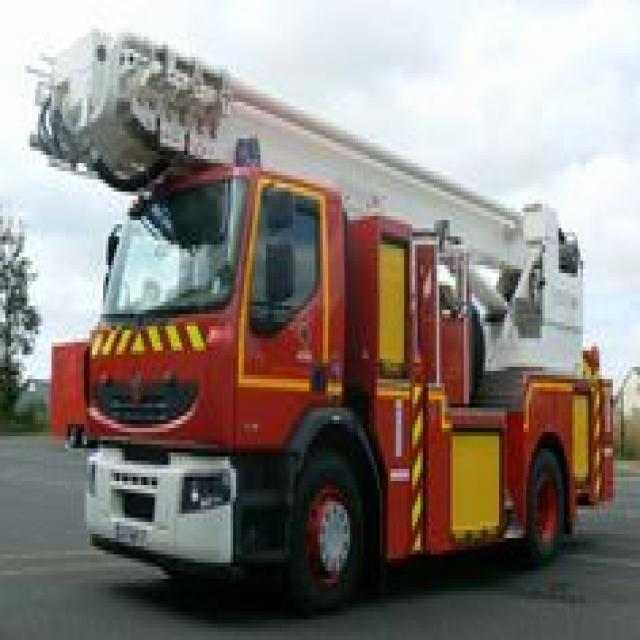emergency: (24, 28, 616, 596)
